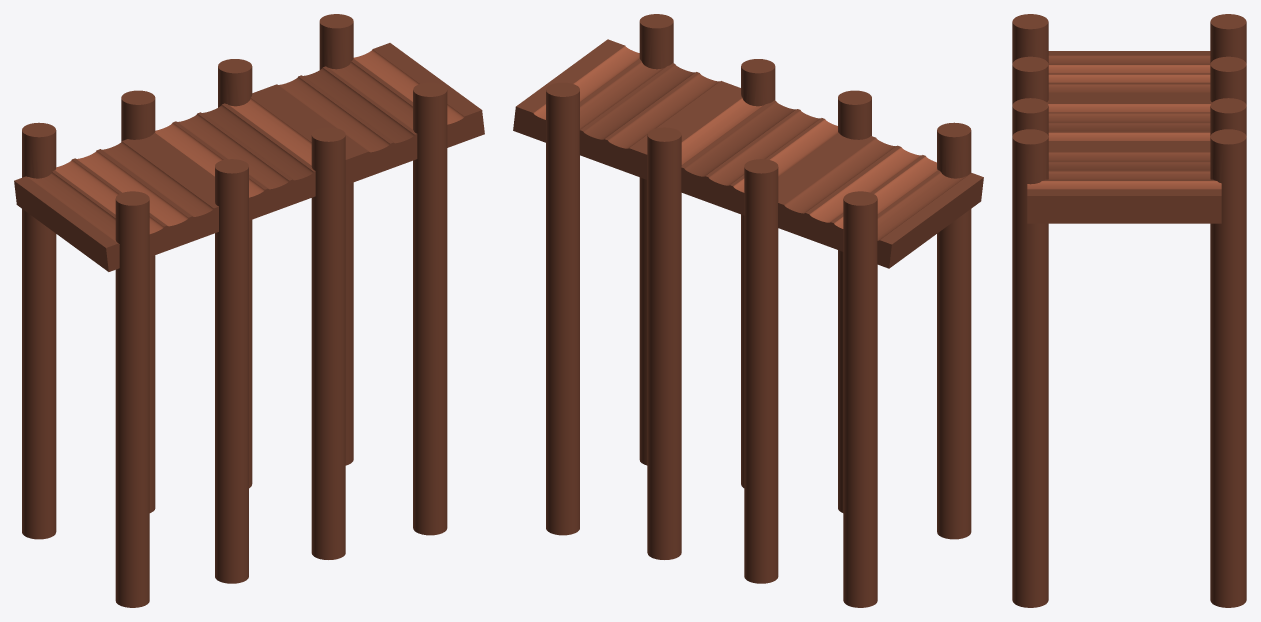
File: Pier_Part2.fbx
3 views of the same model, side by side, from view 1: azimuth 30°, elevation 25°; view 2: azimuth 150°, elevation 25°; view 3: azimuth 270°, elevation 25° (orthographic). The views are drawn at different scales.
Visible parts, largest first — view 1: Model; view 2: Model; view 3: Model.
Boxes of the visible parts, x1,y1,x2,y2 form: Model: (14, 14, 484, 607); Model: (513, 14, 983, 607); Model: (1012, 14, 1246, 607).
Bounding box in the file's own units: 1028 × 1136 × 520.
